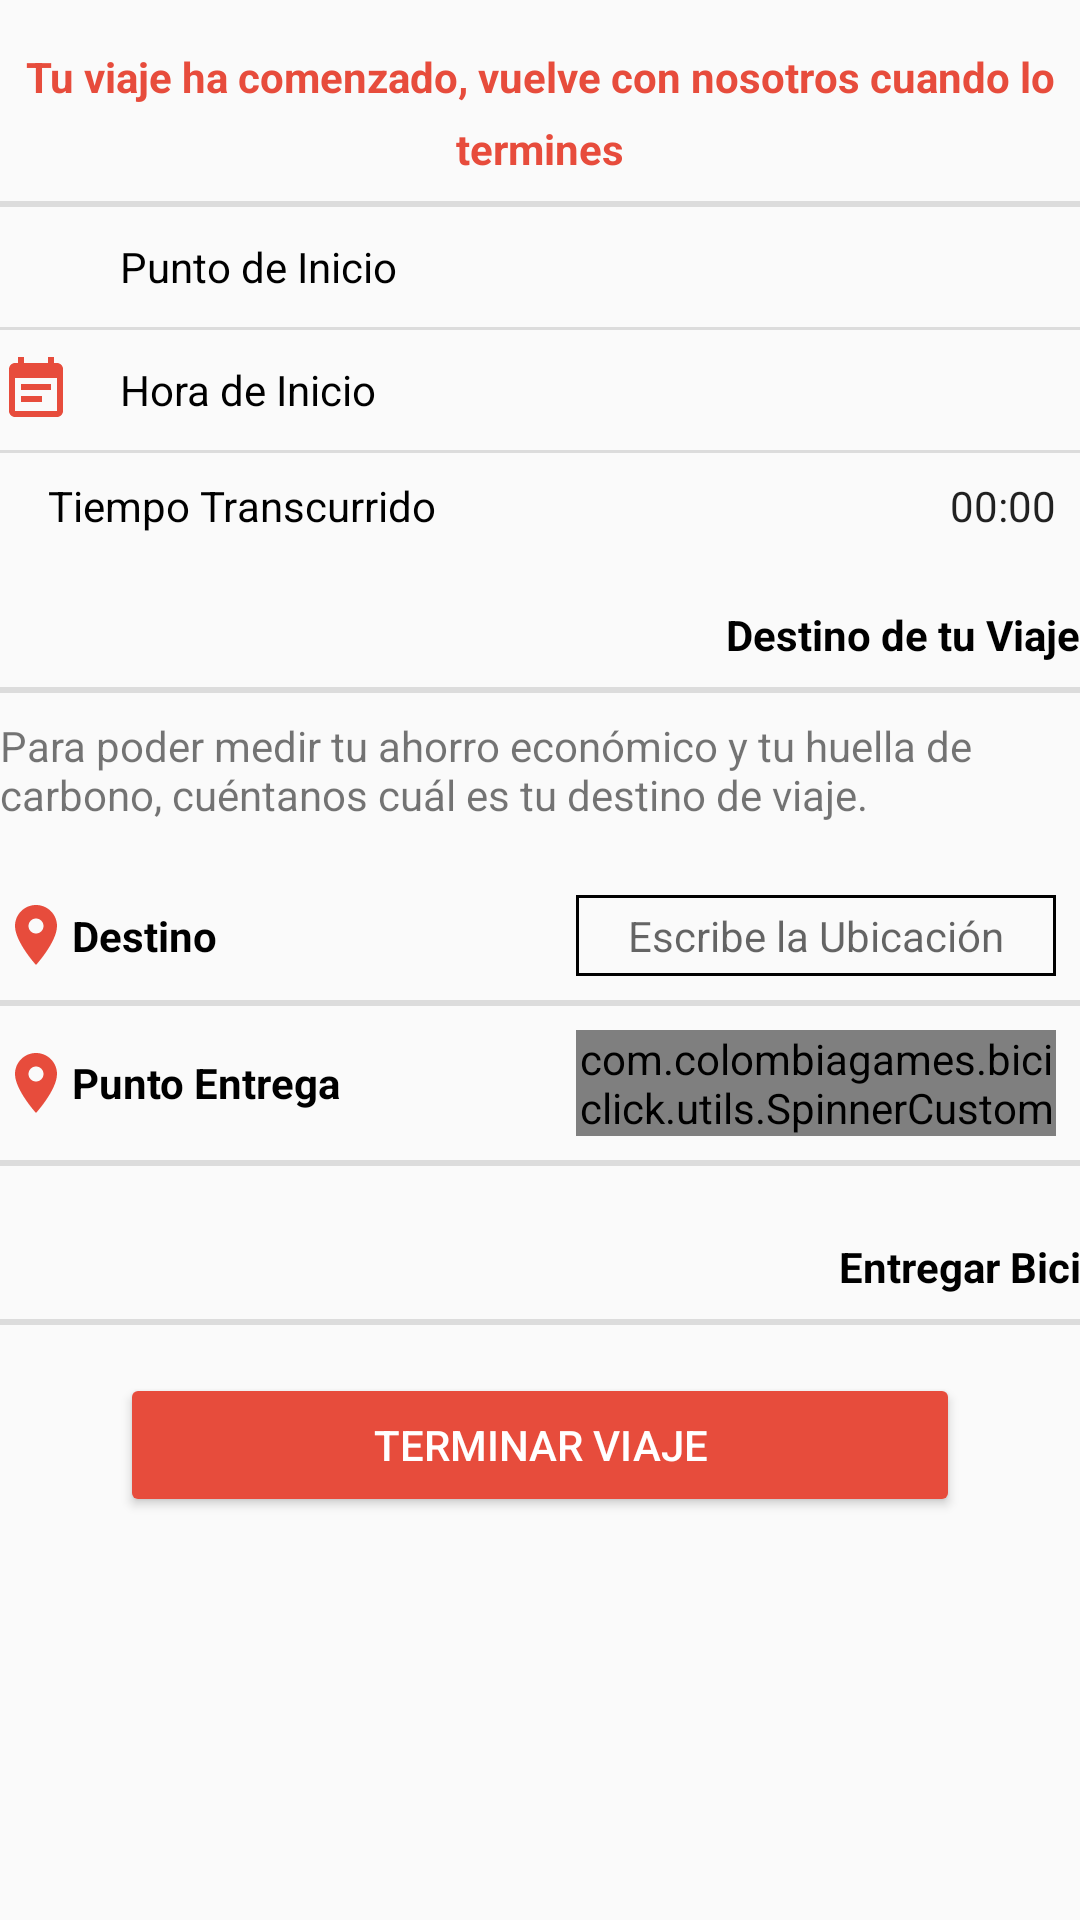

Where to tap for icons on this 1080 × 1920 app screen, as (x,y):
event: (36,387)
location: (36,935), (36,1083)
